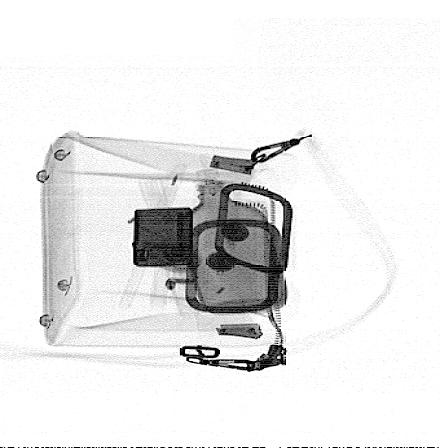Lighter: (132, 207, 194, 267)
